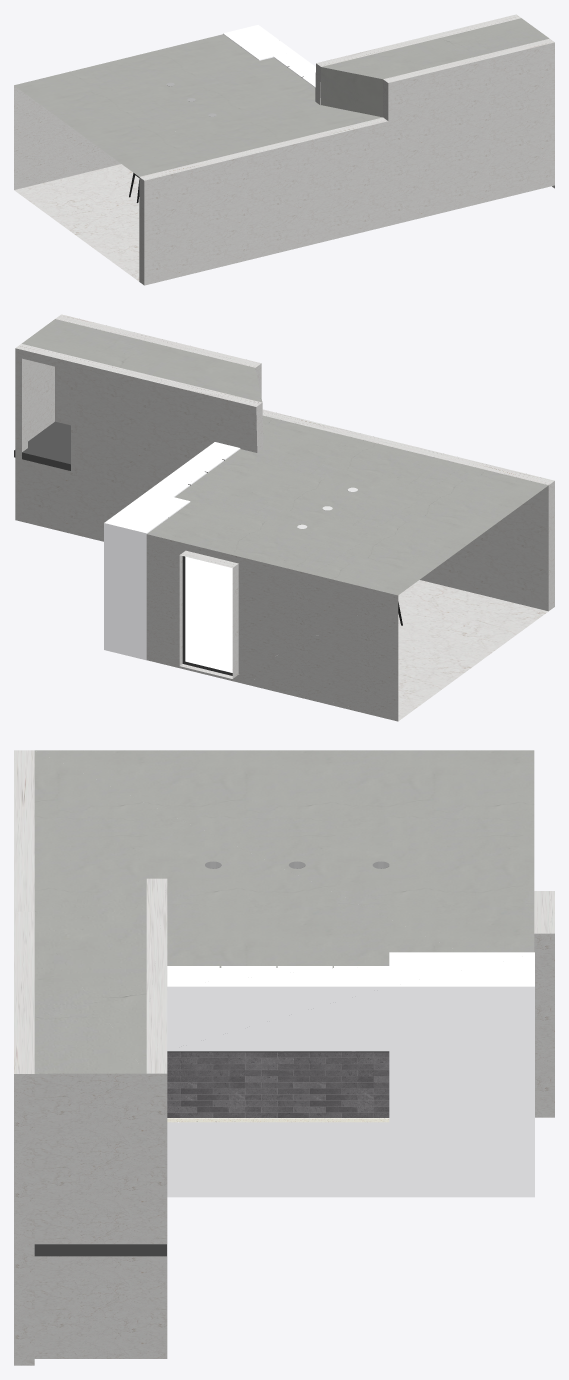
File: kitchen.glb
3 views of the same model, one above another, from view 1: azimuth 30°, elevation 25°; view 2: azimuth 150°, elevation 25°; view 3: azimuth 270°, elevation 25° (orthographic). The views are drawn at different scales.
Parts seen in each view (by area): view 1: ceiling -2 -1, rest -1 2, rest -2 2, ceiling -1 0, rest 2 2, rest 3 2, floor -2 -1, rest -3 -2, ceiling 2 1, ceiling 3 1, rest 1 2, rest 0 1 (+12 smaller); view 2: ceiling -2 -1, ceiling -1 0, rest 2 0, rest -3 -2, rest -2 -2, rest -2 1, floor -2 -1, rest 1 0, rest 0 -2, rest -1 -3, ceiling 3 1, ceiling 2 1 (+20 smaller); view 3: ceiling -2 -1, ceiling -1 0, rest 4 1, rest 1 -2, rest 1 -1, rest 1 0, ceiling 2 1, ceiling 3 1, rest 4 2, rest 0 -3, rest 4 0, ceiling 1 -1 (+10 smaller).
Part boxes in pixels (x1=…): ceiling -2 -1: x1=14, y1=34, x2=240, y2=176; rest -1 2: x1=145, y1=121, x2=388, y2=285; rest -2 2: x1=144, y1=121, x2=387, y2=285; ceiling -1 0: x1=139, y1=47, x2=382, y2=176; rest 2 2: x1=401, y1=42, x2=554, y2=222; rest 3 2: x1=401, y1=42, x2=554, y2=185; floor -2 -1: x1=14, y1=164, x2=139, y2=281; rest -3 -2: x1=14, y1=85, x2=115, y2=189; ceiling 2 1: x1=322, y1=18, x2=520, y2=76; ceiling 3 1: x1=397, y1=18, x2=549, y2=75; rest 1 2: x1=383, y1=79, x2=400, y2=225; rest 0 1: x1=315, y1=67, x2=382, y2=104; ceiling -2 -1: x1=147, y1=485, x2=547, y2=595; ceiling -1 0: x1=168, y1=415, x2=547, y2=518; rest 2 0: x1=16, y1=364, x2=256, y2=519; rest -3 -2: x1=239, y1=595, x2=398, y2=721; rest -2 -2: x1=189, y1=551, x2=397, y2=674; rest -2 1: x1=420, y1=485, x2=548, y2=611; floor -2 -1: x1=398, y1=611, x2=548, y2=720; rest 1 0: x1=15, y1=363, x2=257, y2=541; rest 0 -2: x1=104, y1=501, x2=190, y2=663; rest -1 -3: x1=180, y1=556, x2=238, y2=678; ceiling 3 1: x1=14, y1=319, x2=238, y2=464; ceiling 2 1: x1=22, y1=343, x2=261, y2=402; ceiling -2 -1: x1=35, y1=750, x2=534, y2=952; ceiling -1 0: x1=34, y1=750, x2=459, y2=967; rest 4 1: x1=34, y1=1073, x2=166, y2=1358; rest 1 -2: x1=281, y1=986, x2=534, y2=1197; rest 1 -1: x1=167, y1=987, x2=389, y2=1196; rest 1 0: x1=167, y1=986, x2=388, y2=1197; ceiling 2 1: x1=35, y1=879, x2=146, y2=1072; ceiling 3 1: x1=34, y1=924, x2=166, y2=1244; rest 4 2: x1=14, y1=1074, x2=34, y2=1365; rest 0 -3: x1=534, y1=933, x2=554, y2=1117; rest 4 0: x1=146, y1=1074, x2=167, y2=1358; ceiling 1 -1: x1=167, y1=966, x2=389, y2=986.
Bounding box in the file's own units: 22.59 × 7.67 × 12.89.
24 materials, 8 textured.
